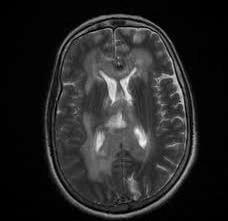Normal_Brain: (1, 2, 228, 221)
